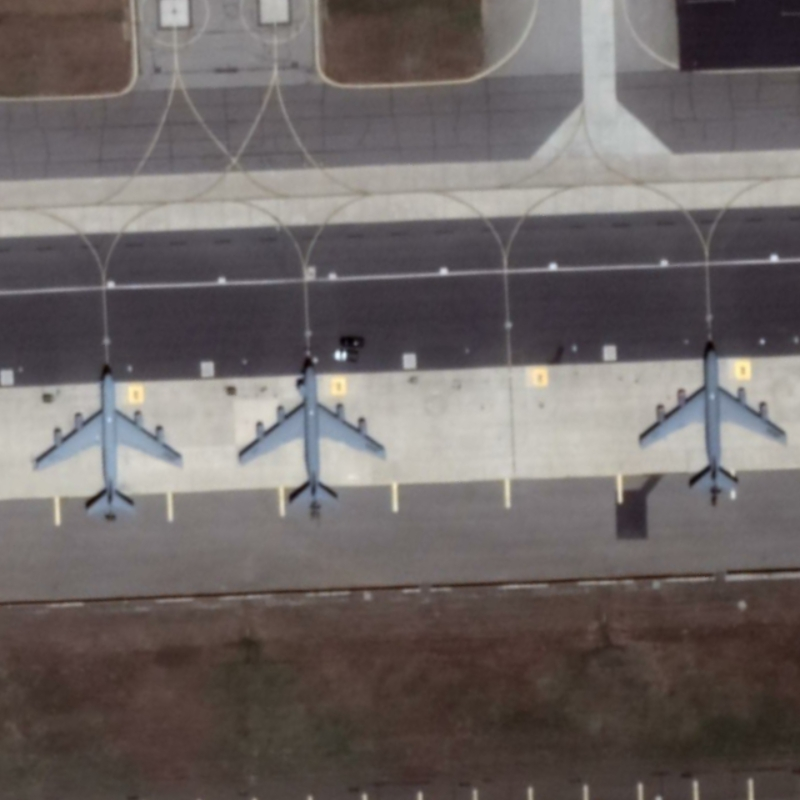A14: (232, 349, 404, 521), (632, 330, 793, 511), (30, 359, 201, 522)
